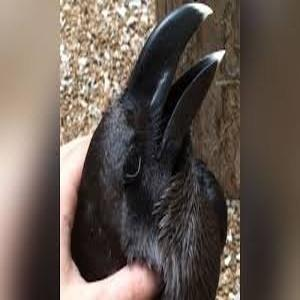rabbit: (70, 2, 228, 300)
